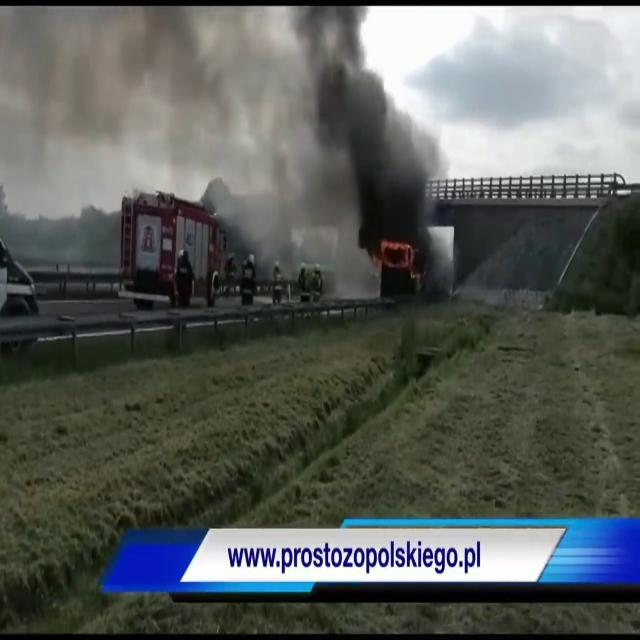Smoke: (0, 0, 251, 182), (270, 2, 438, 256)
